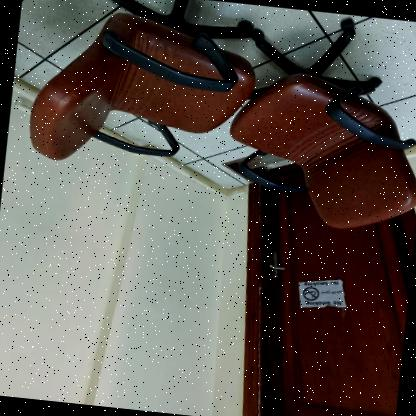chair: (13, 0, 259, 199), (213, 6, 416, 238)
